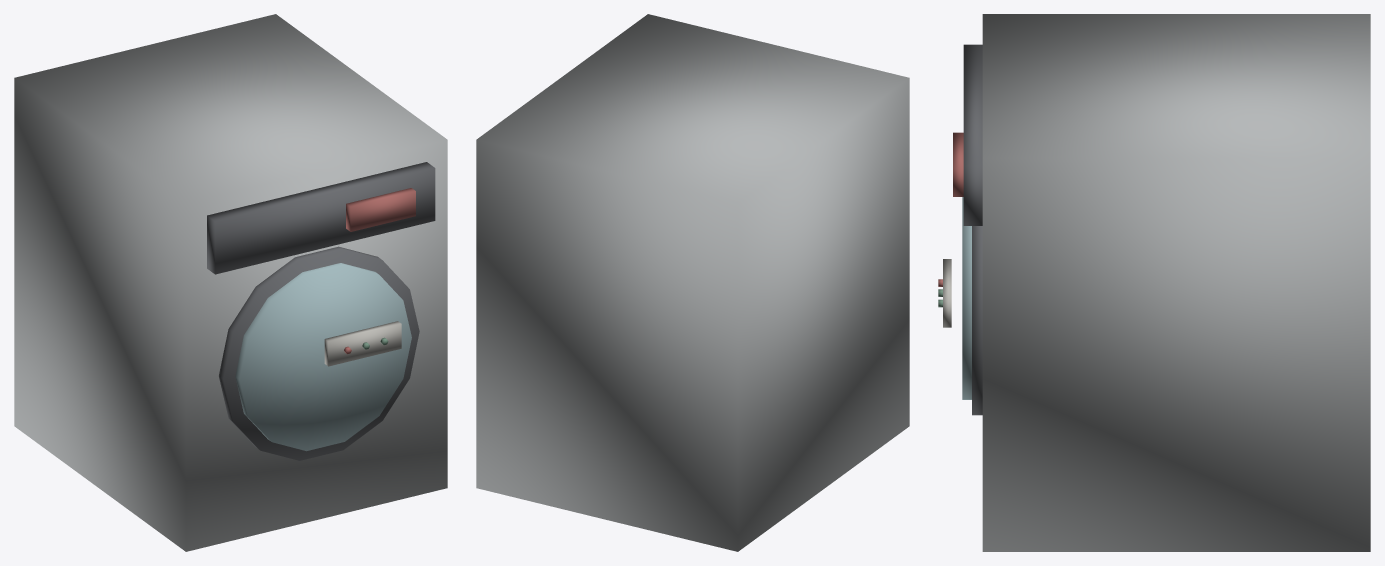
Rendered from industrial_dryer__deep.glb.
3 views of the same model, side by side, from view 1: azimuth 30°, elevation 25°; view 2: azimuth 150°, elevation 25°; view 3: azimuth 270°, elevation 25° (orthographic). The views are drawn at different scales.
Visible parts, largest first — view 1: world; view 2: world; view 3: world.
Boxes of the visible parts, x1=… form: world: x1=14, y1=14, x2=447, y2=551; world: x1=476, y1=14, x2=909, y2=551; world: x1=938, y1=14, x2=1370, y2=551.
Size of the model in its own units: 0.88 by 1.12 by 1.11.
